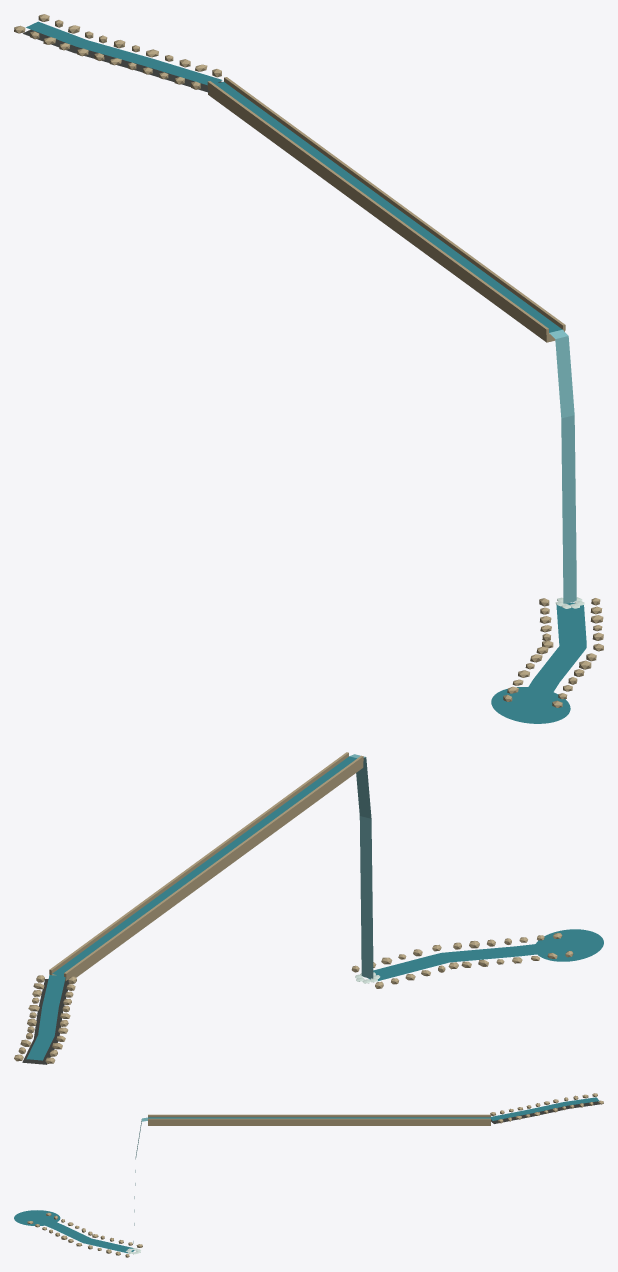
File: river_aqueduct.fbx
3 renders of one model, top to bottom at view 1: azimuth 30°, elevation 25°; view 2: azimuth 150°, elevation 25°; view 3: azimuth 270°, elevation 25°, orthographic. The views are drawn at different scales.
Visible parts, largest first — view 1: Aqueduct waterfall.001, Water in continuous aqueduct trough.001, Aqueduct channel wall.002, Aqueduct channel floor.001, Aqueduct channel wall.003, Lower river water.001, River pond.001, Hill river water.001; view 2: Aqueduct waterfall.001, Water in continuous aqueduct trough.001, Aqueduct channel wall.002, Aqueduct channel floor.001, Aqueduct channel wall.003, Lower river water.001, River pond.001, Hill river water.001, Hill river bed.001; view 3: Aqueduct channel wall.003, Aqueduct channel floor.001, Aqueduct channel wall.002, Water in continuous aqueduct trough.001, Lower river water.001, River pond.001, Hill river water.001, Hill river bed.001.
Boxes of the visible parts, x1=… form: Aqueduct waterfall.001: x1=549, y1=329, x2=576, y2=603; Water in continuous aqueduct trough.001: x1=215, y1=81, x2=562, y2=332; Aqueduct channel wall.002: x1=207, y1=81, x2=548, y2=334; Aqueduct channel floor.001: x1=208, y1=87, x2=564, y2=342; Aqueduct channel wall.003: x1=224, y1=77, x2=565, y2=330; Lower river water.001: x1=528, y1=602, x2=586, y2=691; River pond.001: x1=491, y1=687, x2=570, y2=723; Hill river water.001: x1=26, y1=21, x2=222, y2=85; Aqueduct waterfall.001: x1=350, y1=754, x2=373, y2=978; Water in continuous aqueduct trough.001: x1=52, y1=756, x2=356, y2=975; Aqueduct channel wall.002: x1=64, y1=755, x2=363, y2=978; Aqueduct channel floor.001: x1=52, y1=761, x2=363, y2=981; Aqueduct channel wall.003: x1=49, y1=752, x2=348, y2=974; Lower river water.001: x1=368, y1=944, x2=536, y2=981; River pond.001: x1=534, y1=929, x2=603, y2=961; Hill river water.001: x1=26, y1=975, x2=65, y2=1060; Hill river bed.001: x1=22, y1=979, x2=69, y2=1064; Aqueduct channel wall.003: x1=148, y1=1118, x2=490, y2=1122; Aqueduct channel floor.001: x1=148, y1=1122, x2=490, y2=1125; Aqueduct channel wall.002: x1=148, y1=1114, x2=490, y2=1117; Water in continuous aqueduct trough.001: x1=148, y1=1117, x2=489, y2=1118; Lower river water.001: x1=45, y1=1222, x2=134, y2=1253; River pond.001: x1=14, y1=1210, x2=60, y2=1225; Hill river water.001: x1=489, y1=1097, x2=599, y2=1120; Hill river bed.001: x1=491, y1=1101, x2=599, y2=1123.
Bounding box in the file's own units: 311447 × 1651392 × 422464.
